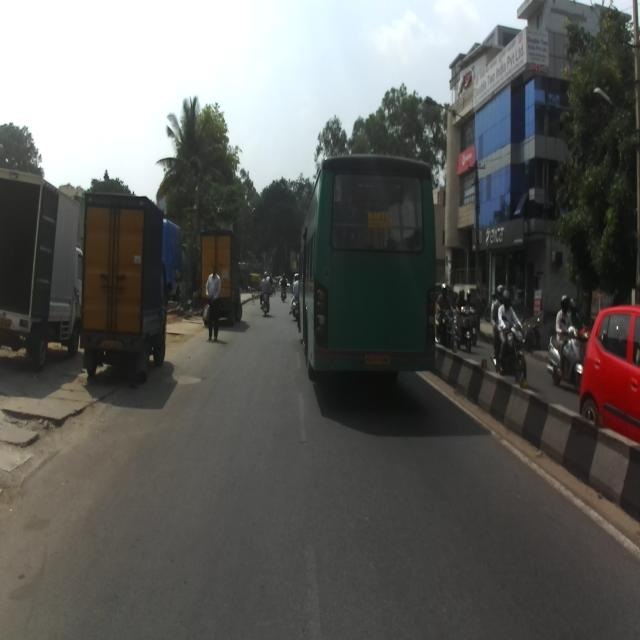bus ahead at: (314, 158, 436, 376)
person ahead at: (203, 257, 224, 343)
truck ahead at: (80, 192, 168, 381), (5, 165, 79, 374)
